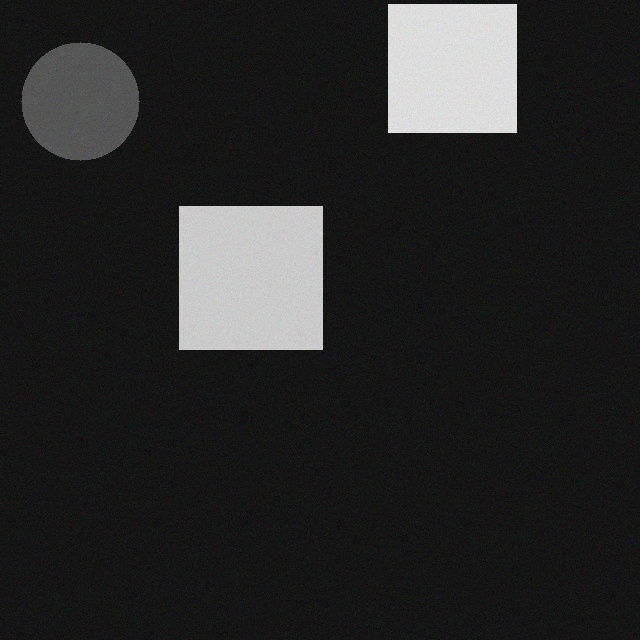circle: (21, 56, 139, 174)
square: (179, 220, 322, 363), (388, 18, 516, 146)
